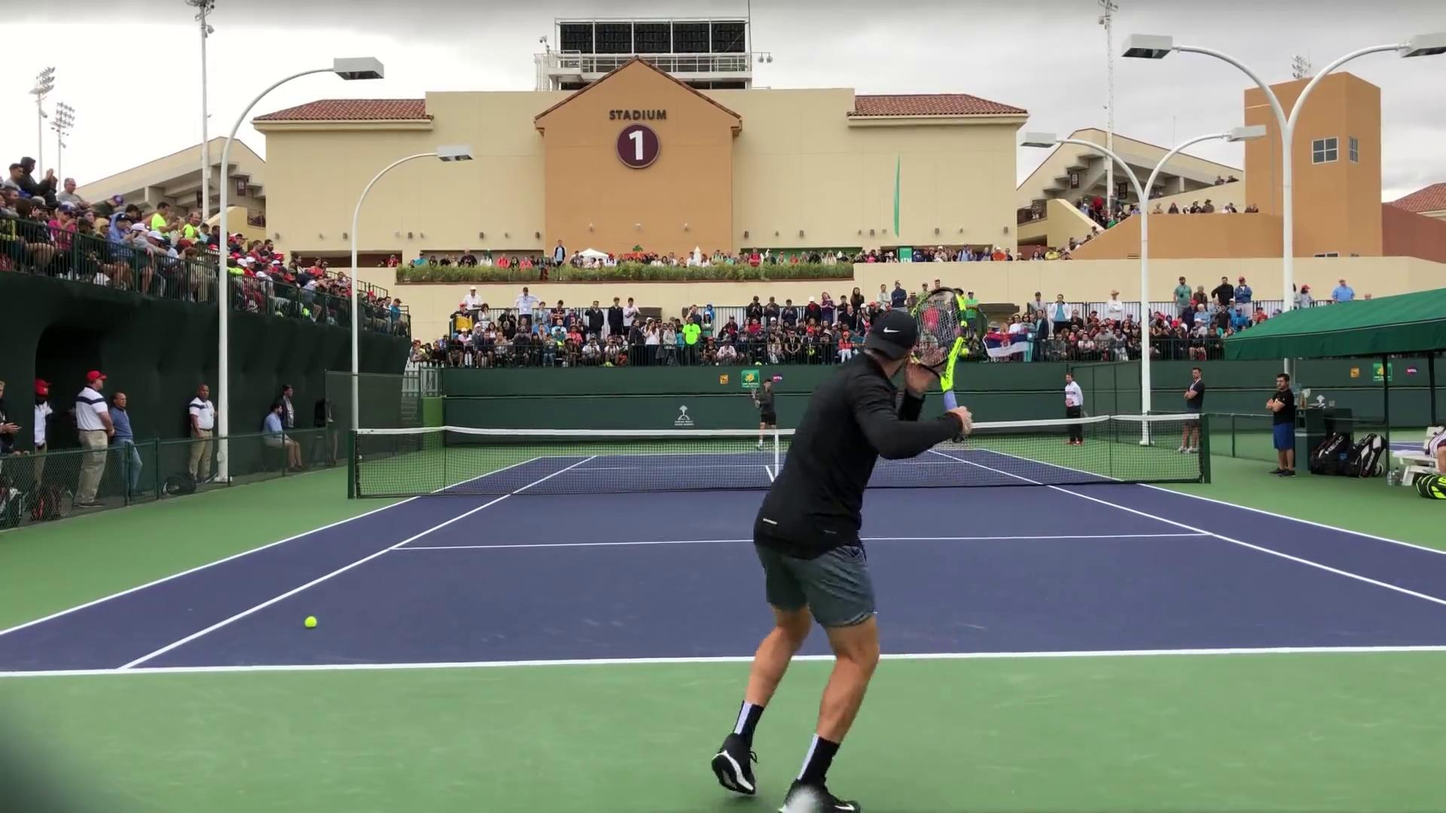ball: (302, 615, 318, 630)
